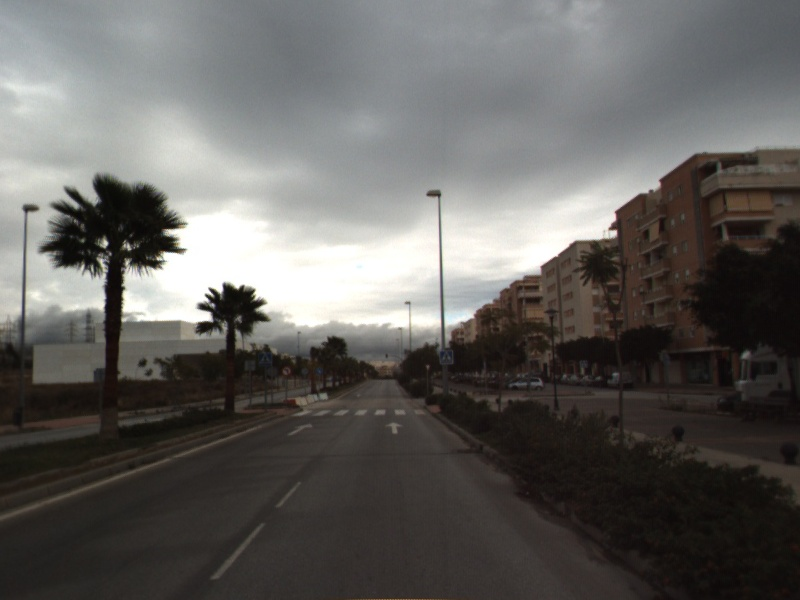STRAIGHT: (286, 421, 315, 437), (384, 420, 405, 436)
